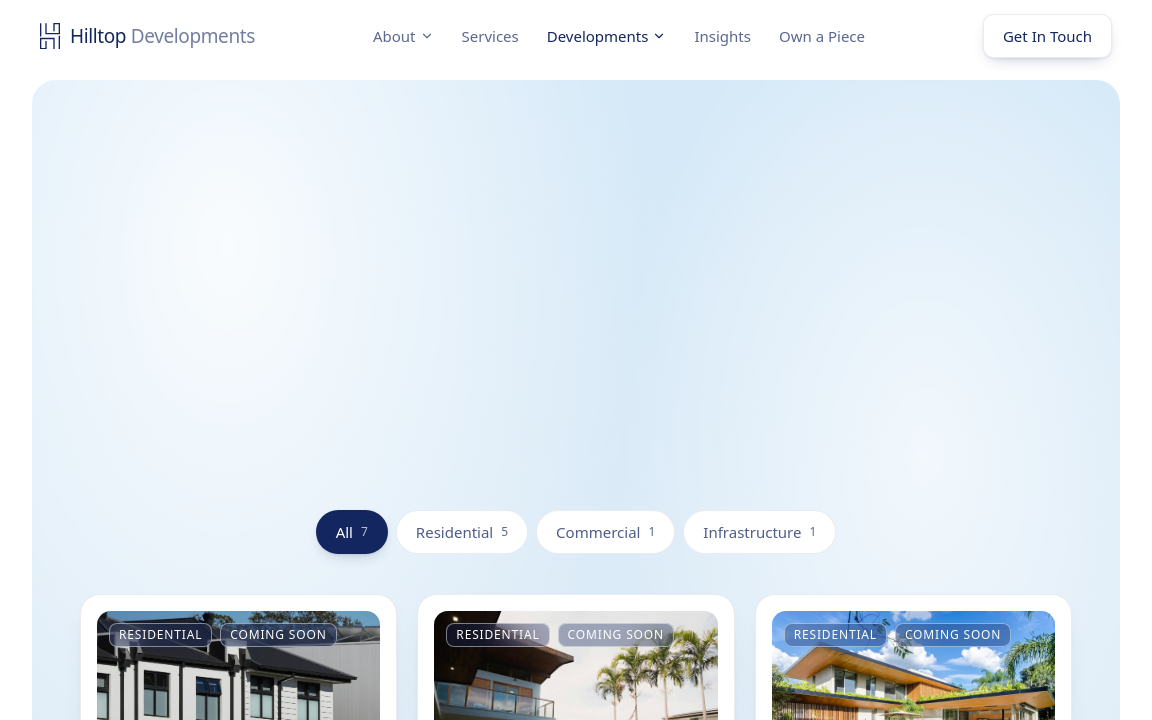
Test: developments filter › shows every development by default and narrows by category
Later steps or results of the test are not shown.
Click the button "Infrastructure 1": (760, 532) [683,510,836,554]
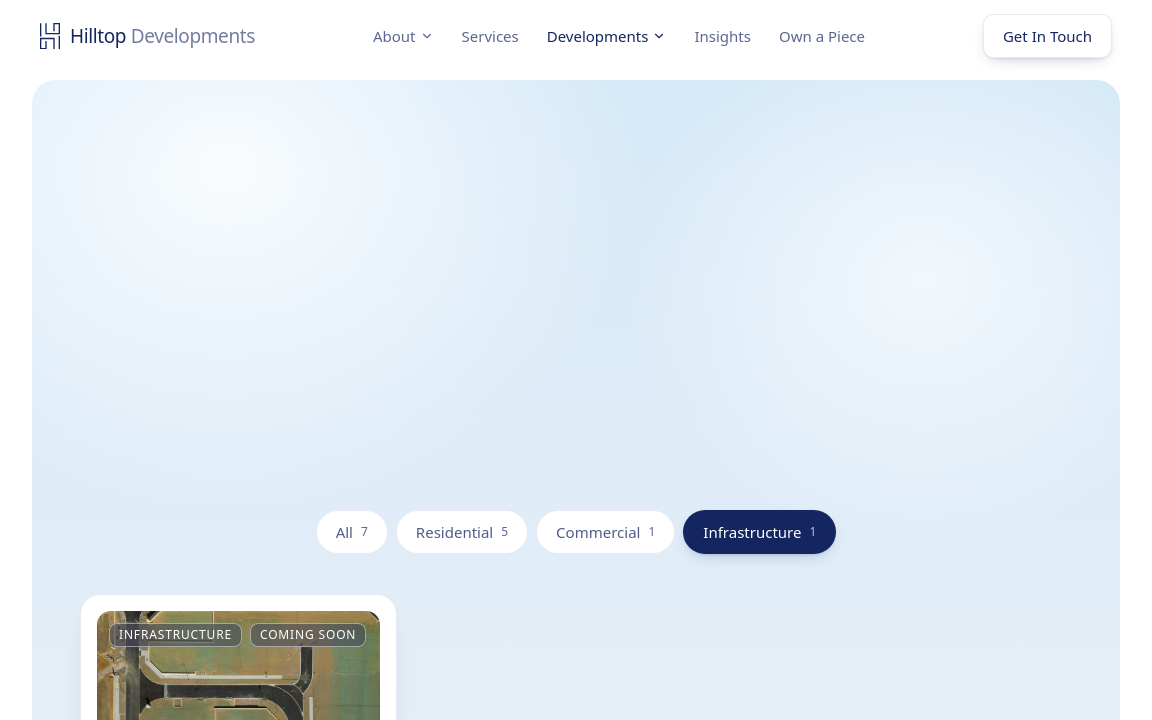
Expected: the button "Infrastructure 1" is pressed, [683,510,836,554]
